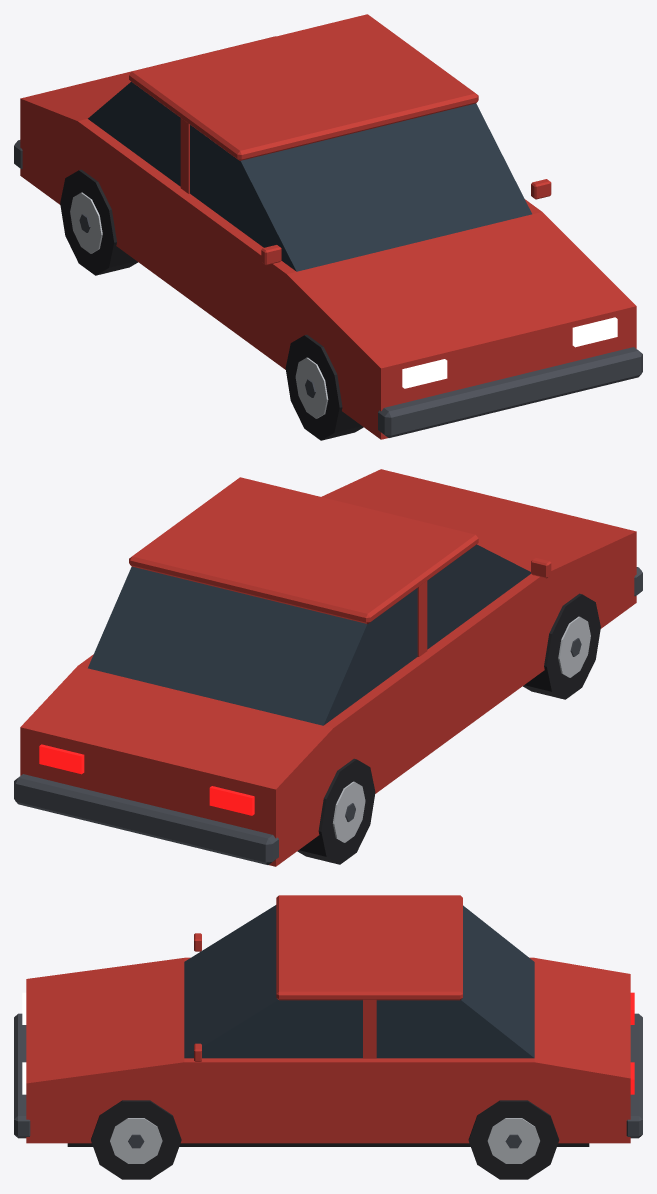
Rendered from Car_Sedan.glb.
The picture shows the model from 3 angles, top to bottom: view 1: azimuth 30°, elevation 25°; view 2: azimuth 150°, elevation 25°; view 3: azimuth 270°, elevation 25°; orthographic projection. The views are drawn at different scales.
Parts seen in each view (by area): view 1: Car_Sedan, Car_Sedan_Wheel_FL, Car_Sedan_Wheel_RL; view 2: Car_Sedan, Car_Sedan_Wheel_RL, Car_Sedan_Wheel_FL; view 3: Car_Sedan, Car_Sedan_Wheel_FR, Car_Sedan_Wheel_RR.
Boxes of the visible parts, x1,y1,x2,y2 form: Car_Sedan: (14, 14, 642, 439); Car_Sedan_Wheel_FL: (285, 334, 363, 440); Car_Sedan_Wheel_RL: (60, 169, 137, 275); Car_Sedan: (14, 469, 642, 866); Car_Sedan_Wheel_RL: (297, 758, 375, 864); Car_Sedan_Wheel_FL: (523, 593, 600, 699); Car_Sedan: (14, 895, 642, 1146); Car_Sedan_Wheel_FR: (91, 1100, 181, 1179); Car_Sedan_Wheel_RR: (468, 1100, 559, 1179).
Bounding box in the file's own units: 2.02 × 1.47 × 4.58.
Materials: 1 (1 with a texture image).
